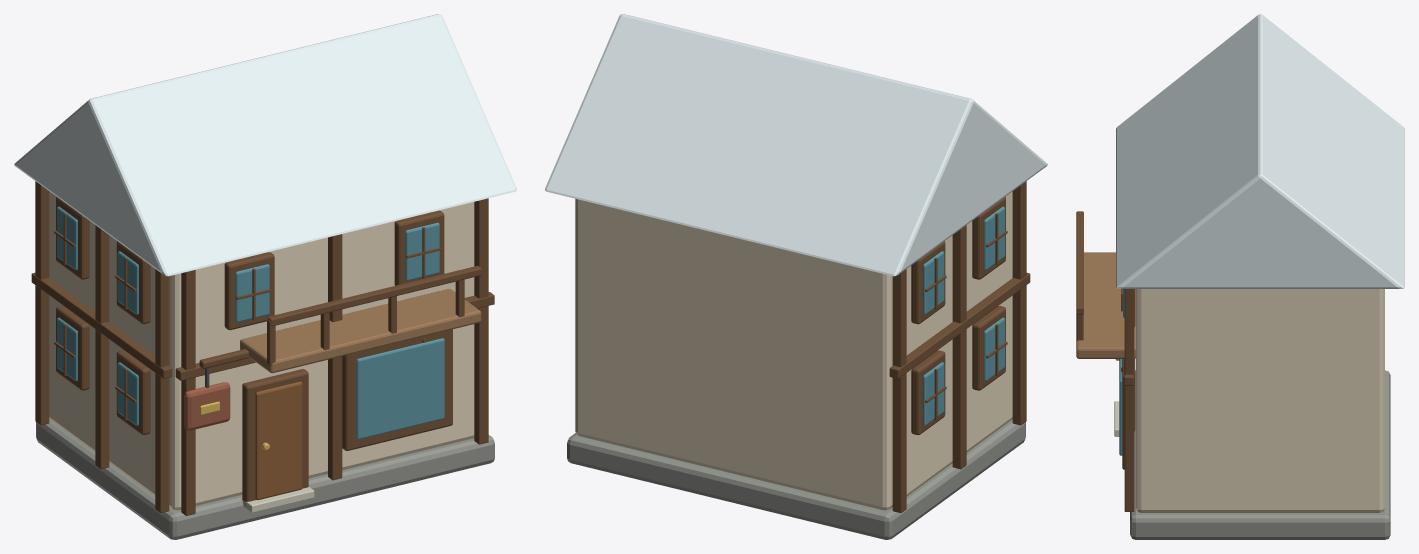
File: snowy-merchant-0.glb
3 renders of one model, left to right at view 1: azimuth 30°, elevation 25°; view 2: azimuth 150°, elevation 25°; view 3: azimuth 270°, elevation 25°, orthographic. The views are drawn at different scales.
Parts seen in each view (by area): view 1: Snow, Dark beams, Warm lime, Blue glass, Foundation stone, Aged oak, Door oak, Painted sign, Cut limestone; view 2: Warm lime, Snow, Dark beams, Foundation stone, Blue glass; view 3: Snow, Warm lime, Foundation stone, Aged oak, Dark beams, Blue glass.
Part boxes in pixels (x1,y1,x2,y2): Snow: [14, 14, 516, 276]; Dark beams: [31, 181, 494, 515]; Warm lime: [49, 191, 474, 510]; Blue glass: [57, 206, 444, 439]; Foundation stone: [36, 419, 494, 539]; Aged oak: [240, 289, 481, 373]; Door oak: [255, 381, 302, 500]; Painted sign: [184, 382, 230, 430]; Cut limestone: [241, 487, 314, 512]; Warm lime: [575, 191, 1012, 510]; Snow: [545, 14, 1047, 276]; Dark beams: [889, 181, 1030, 512]; Foundation stone: [567, 419, 1025, 539]; Blue glass: [923, 206, 1004, 425]; Snow: [1116, 14, 1404, 288]; Warm lime: [1136, 289, 1384, 512]; Foundation stone: [1130, 370, 1390, 539]; Aged oak: [1076, 252, 1135, 358]; Dark beams: [1076, 211, 1135, 511]; Blue glass: [1119, 289, 1124, 455].
Size of the model in its own units: 3.94 by 4.22 by 3.36.
